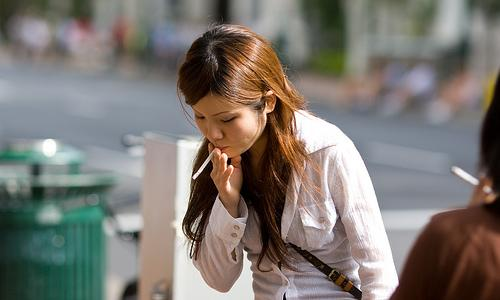person: (175, 24, 401, 300)
